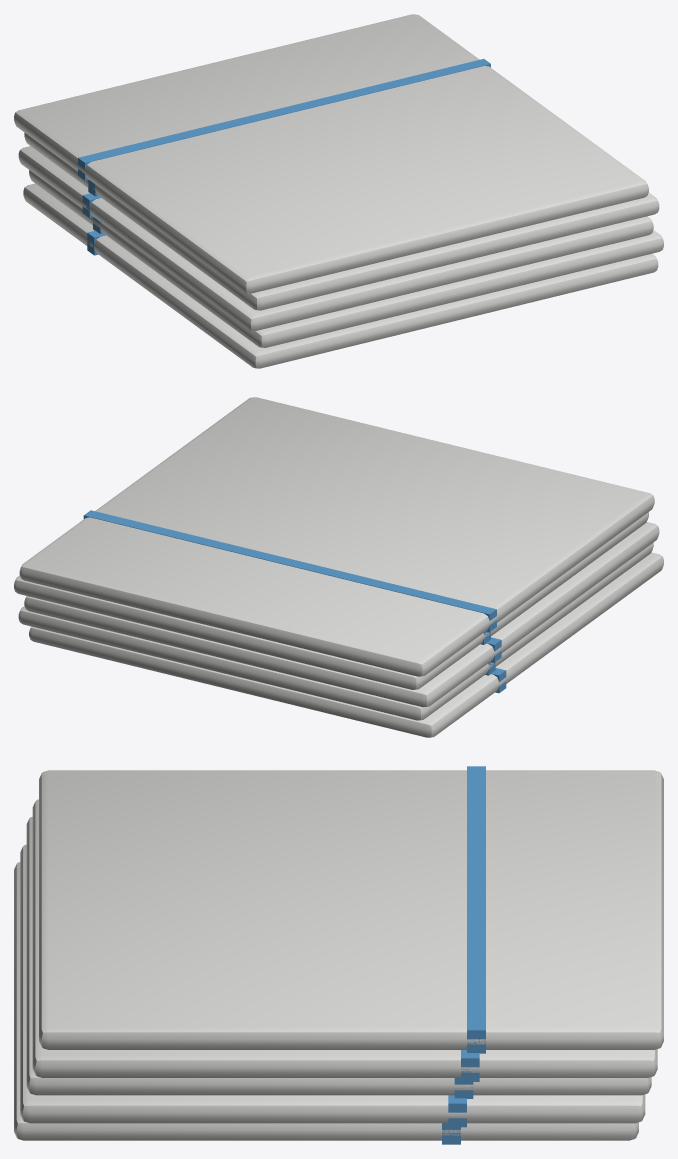
File: Instr_GauzeSwabs.fbx
The picture shows the model from 3 angles, top to bottom: view 1: azimuth 30°, elevation 25°; view 2: azimuth 150°, elevation 25°; view 3: azimuth 270°, elevation 25°; orthographic projection. The views are drawn at different scales.
Parts seen in each view (by area): view 1: Instr_GauzeSwabs_Mesh; view 2: Instr_GauzeSwabs_Mesh; view 3: Instr_GauzeSwabs_Mesh.
Part boxes in pixels (x1=…): Instr_GauzeSwabs_Mesh: x1=14, y1=14, x2=663, y2=368; Instr_GauzeSwabs_Mesh: x1=14, y1=397, x2=663, y2=737; Instr_GauzeSwabs_Mesh: x1=14, y1=766, x2=663, y2=1144.
Size of the model in its own units: 0.102 by 0.0202 by 0.104.
